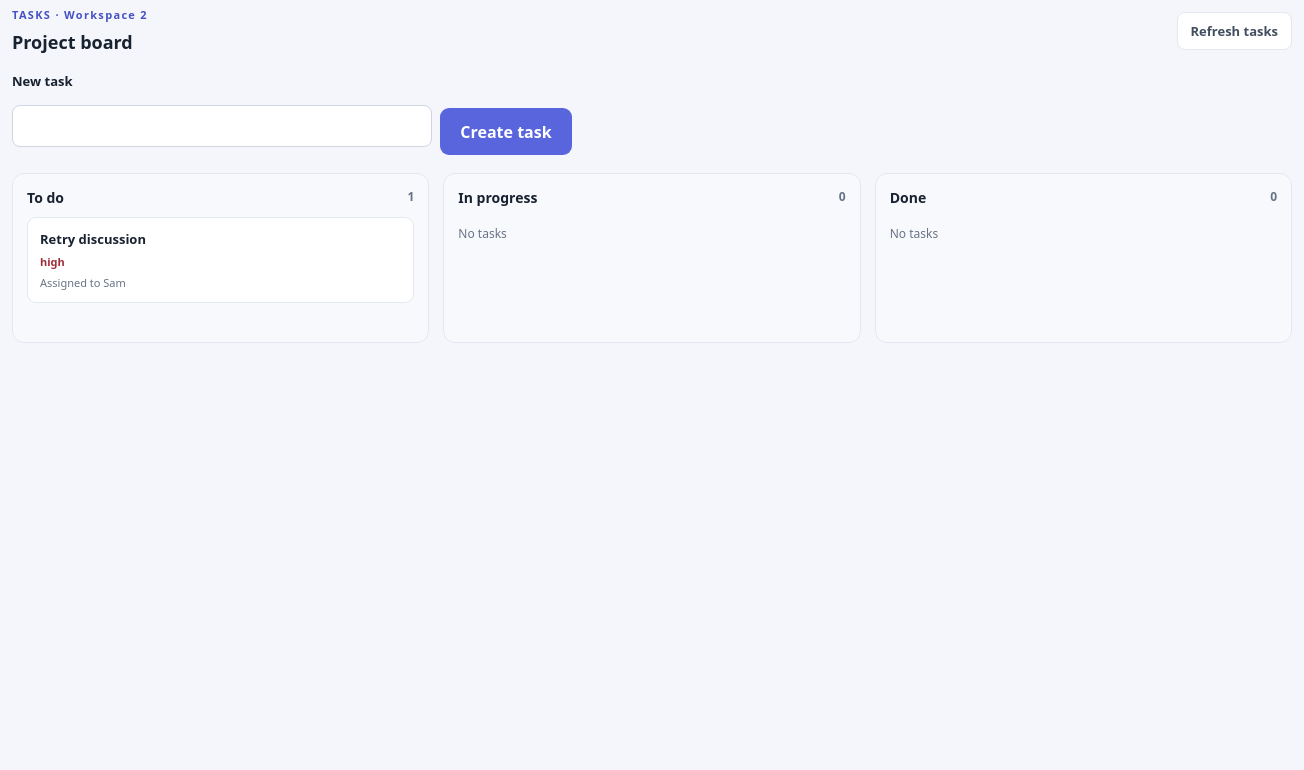
Test: project task board › shows discussion errors and retries comment and activity loading
This screenshot has width=1304, height=770.
Step 1. Click the button "Retry discussion high Assigned to Sam" → (93, 239), box [27,217,414,303]
(page scrolled)
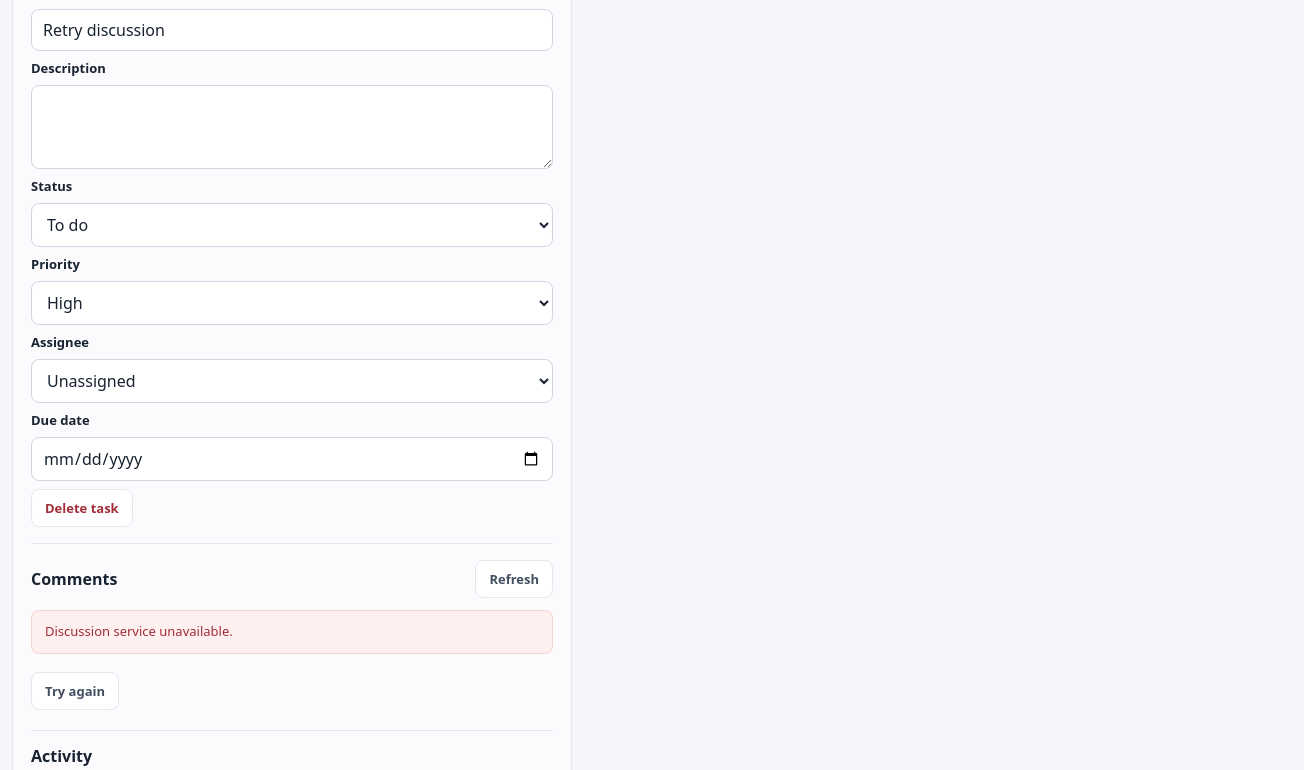
Expected: the message reads "Discussion service unavailable.", [45,622,233,640]
Step 2. Click the button "Try again" → (75, 690), box [31,672,119,710]
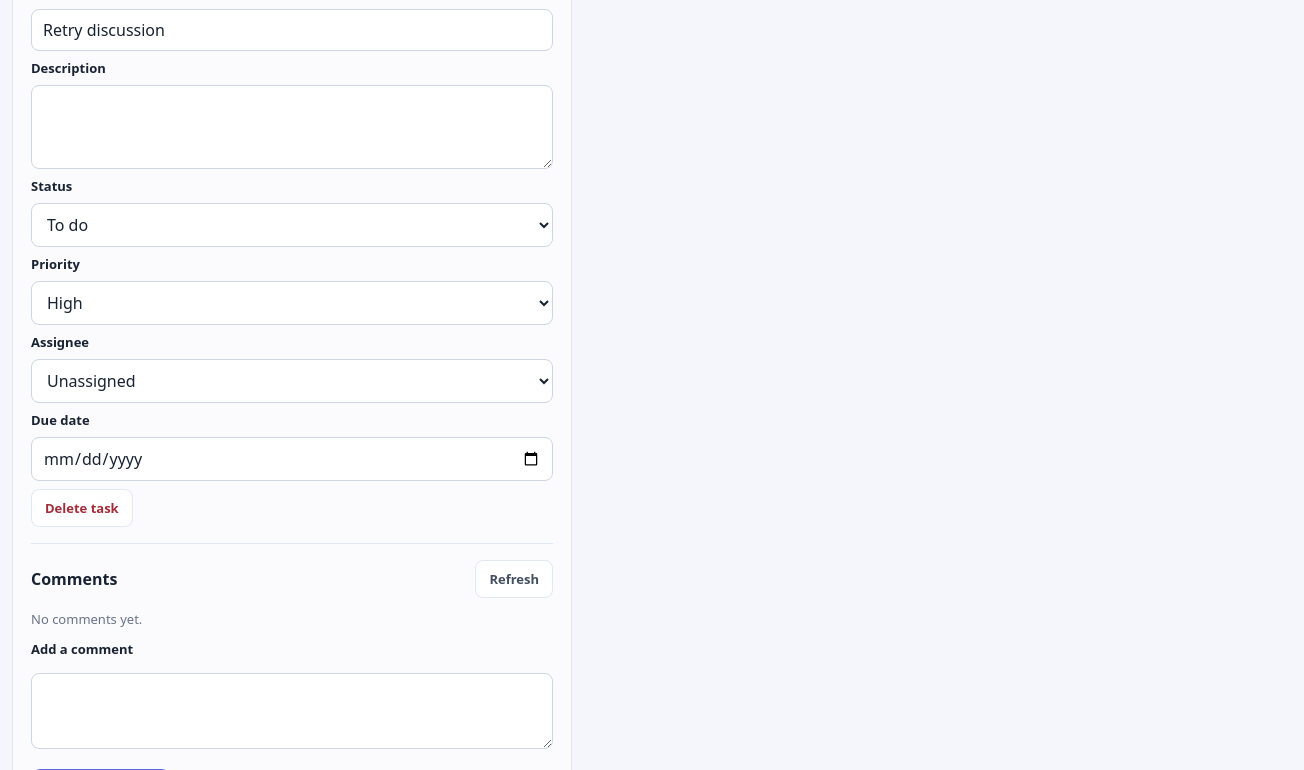
Expected: the text "No comments yet." is shown, [31,610,142,628]
